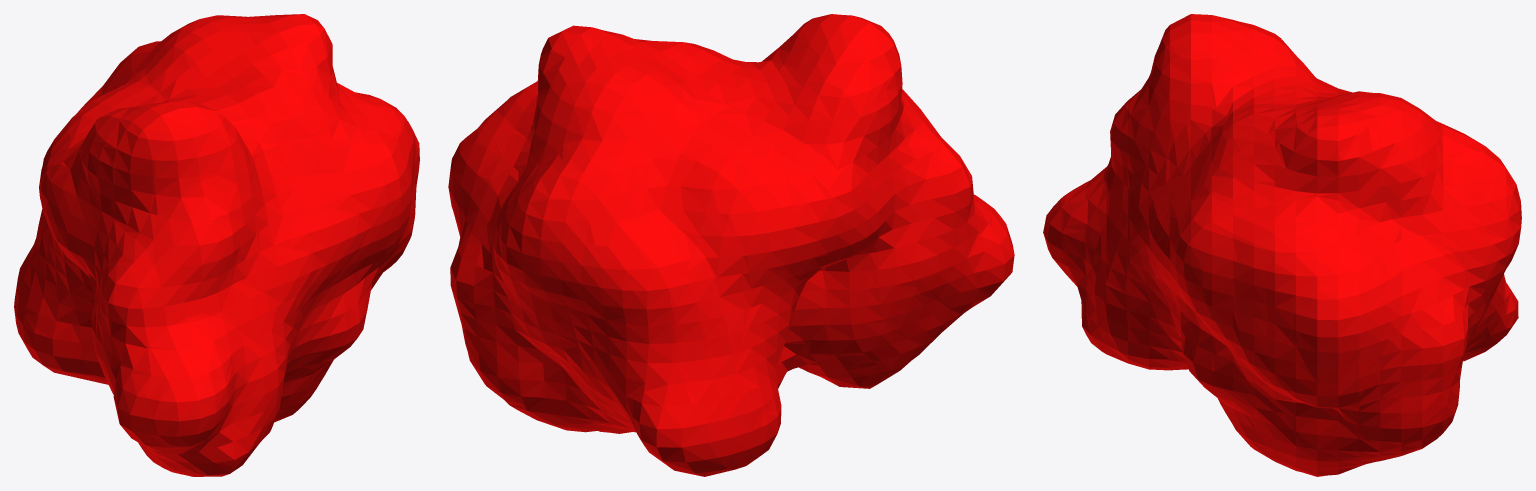
The model's file is entA_coarse.dae.
The picture shows the model from 3 angles, left to right: view 1: azimuth 30°, elevation 25°; view 2: azimuth 150°, elevation 25°; view 3: azimuth 270°, elevation 25°; orthographic projection. The views are drawn at different scales.
Parts seen in each view (by area): view 1: entA; view 2: entA; view 3: entA.
Boxes of the visible parts, x1,y1,x2,y2 form: entA: [14, 14, 419, 476]; entA: [448, 14, 1014, 476]; entA: [1043, 14, 1521, 476].
Size of the model in its own units: 48.25 by 43.24 by 49.64.
